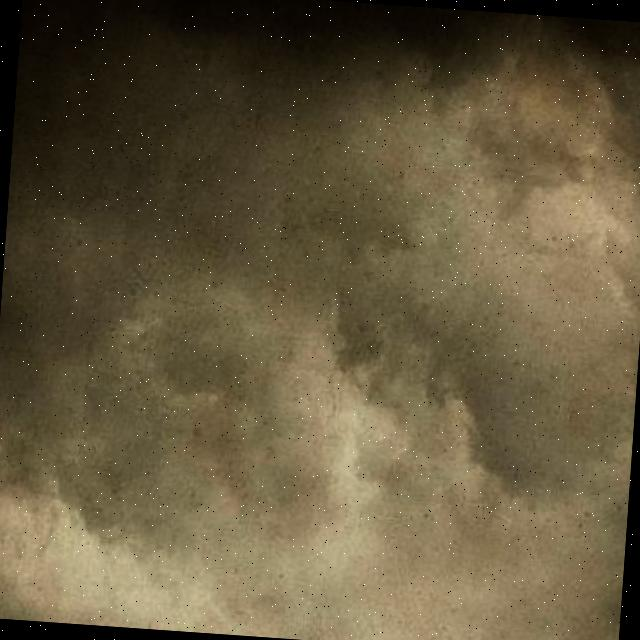As: (1, 16, 640, 594)
